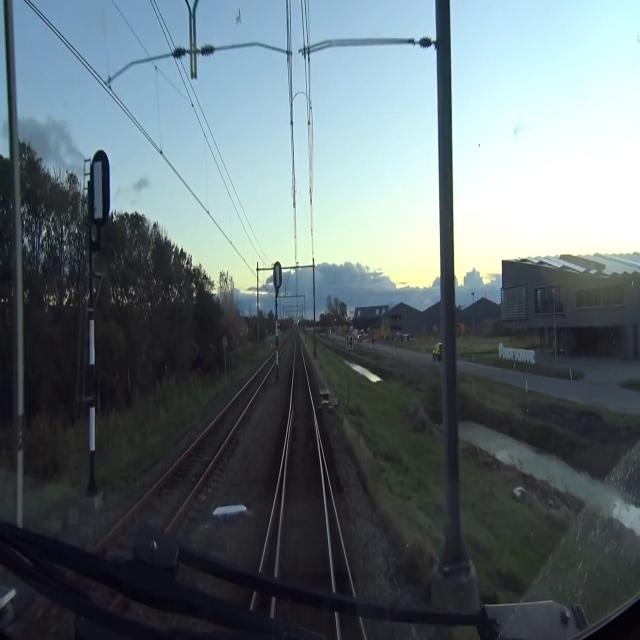rail-track: (109, 355, 275, 545), (278, 338, 331, 593), (325, 476, 352, 603), (263, 483, 280, 578)
